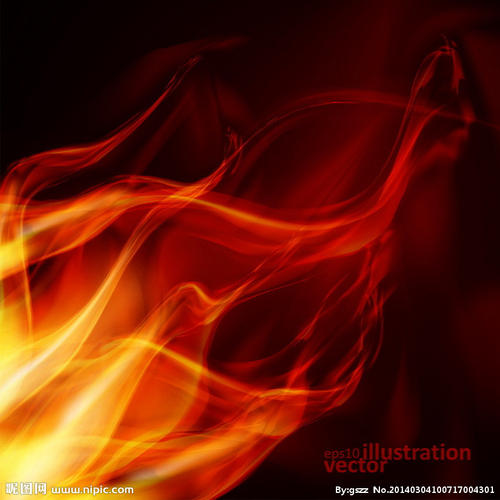fire: (2, 166, 227, 492)
